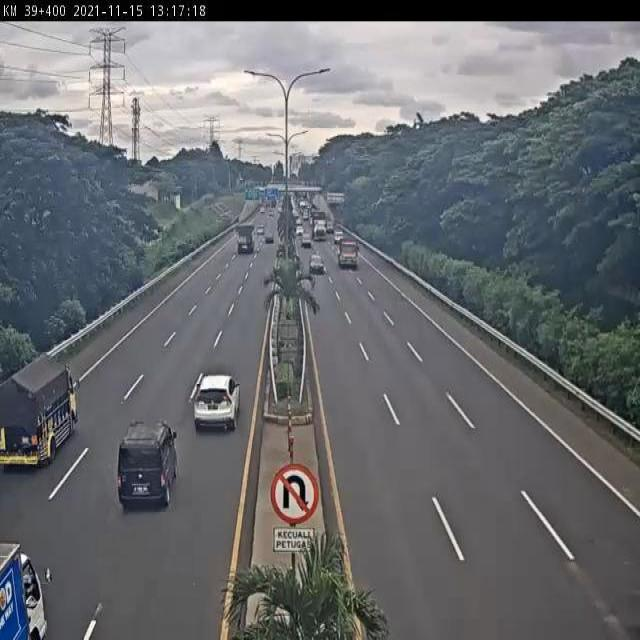ARABA: (115, 416, 180, 511), (190, 370, 243, 434), (308, 252, 325, 279)
KAMYONET: (0, 351, 79, 472)
TIR: (333, 235, 360, 268)
